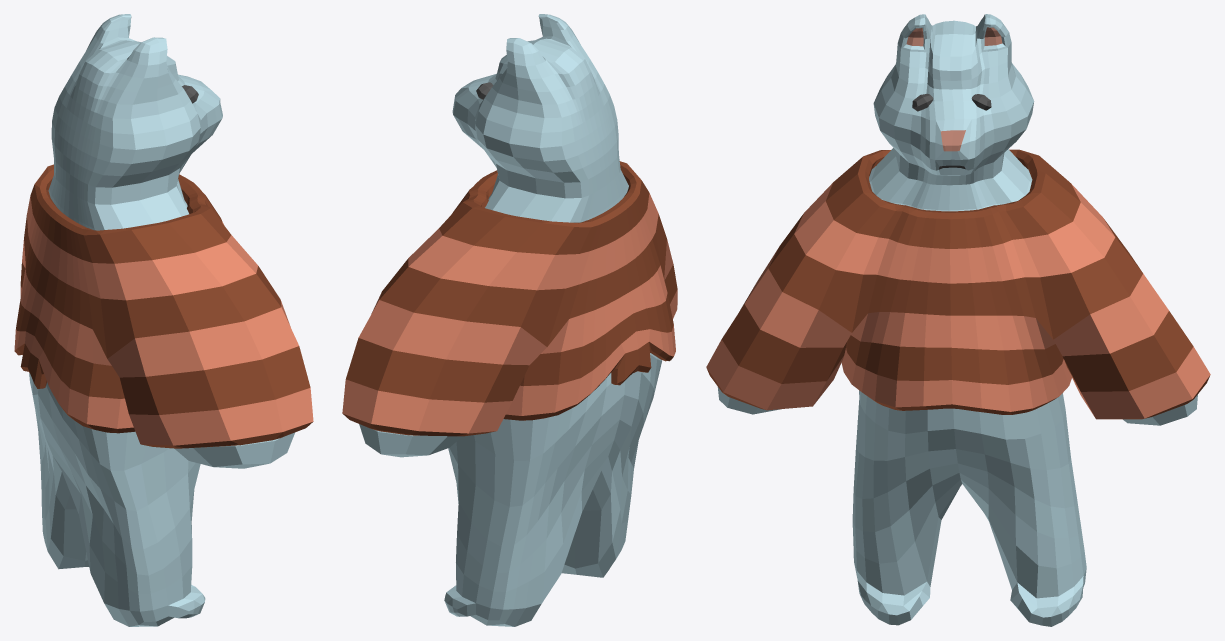
Rendered from npc3-STANDING.fbx.
The picture shows the model from 3 angles, left to right: view 1: azimuth 30°, elevation 25°; view 2: azimuth 150°, elevation 25°; view 3: azimuth 270°, elevation 25°; orthographic projection. The views are drawn at different scales.
Visible parts, largest first — view 1: Plane.001; view 2: Plane.001; view 3: Plane.001.
Boxes of the visible parts, box(x1,y1,x2,y2) form: Plane.001: box(14, 14, 313, 626); Plane.001: box(342, 14, 677, 626); Plane.001: box(706, 14, 1210, 626).
Size of the model in its own units: 235 by 578 by 445.
